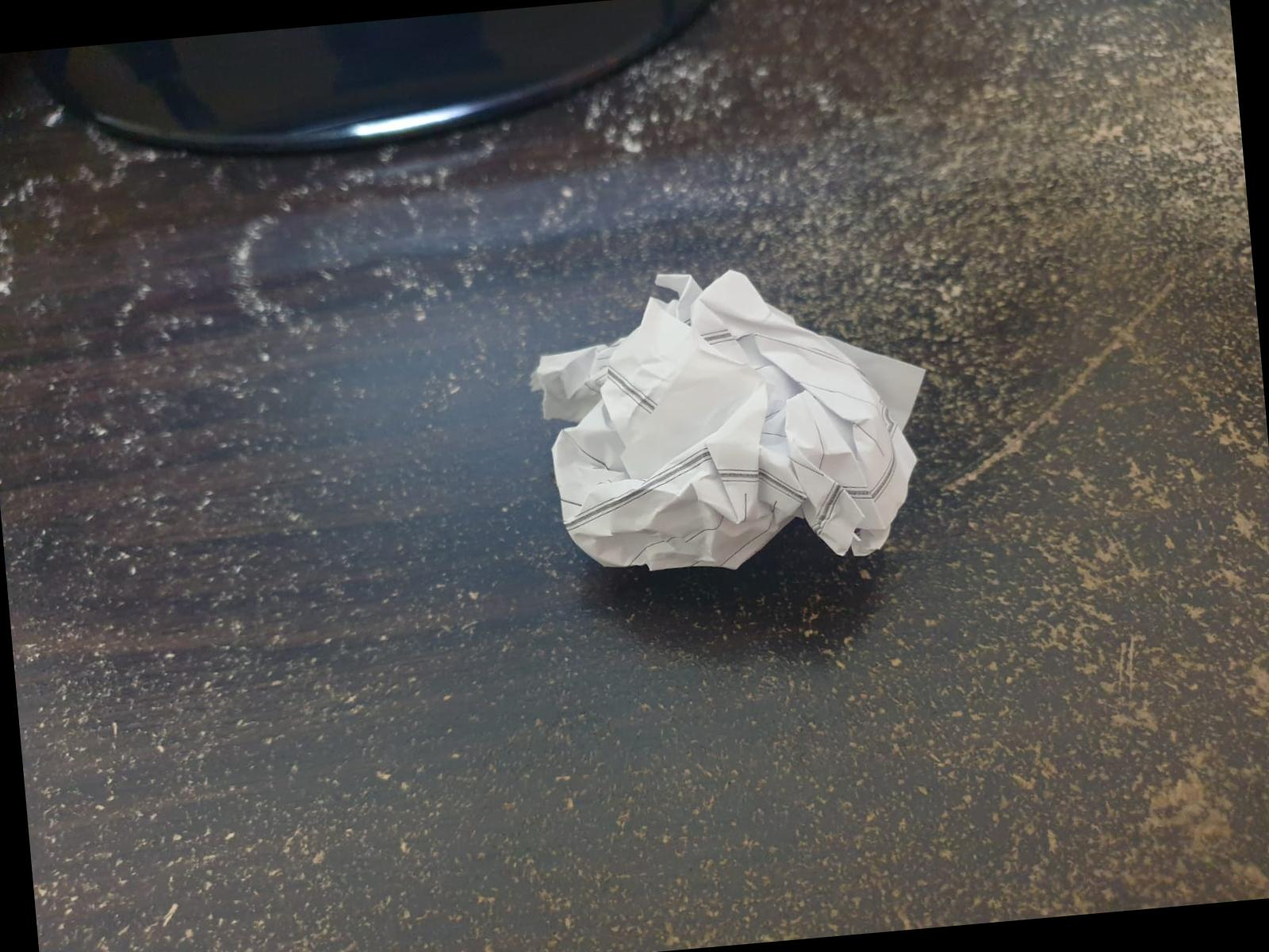Kertas: (531, 271, 921, 570)
